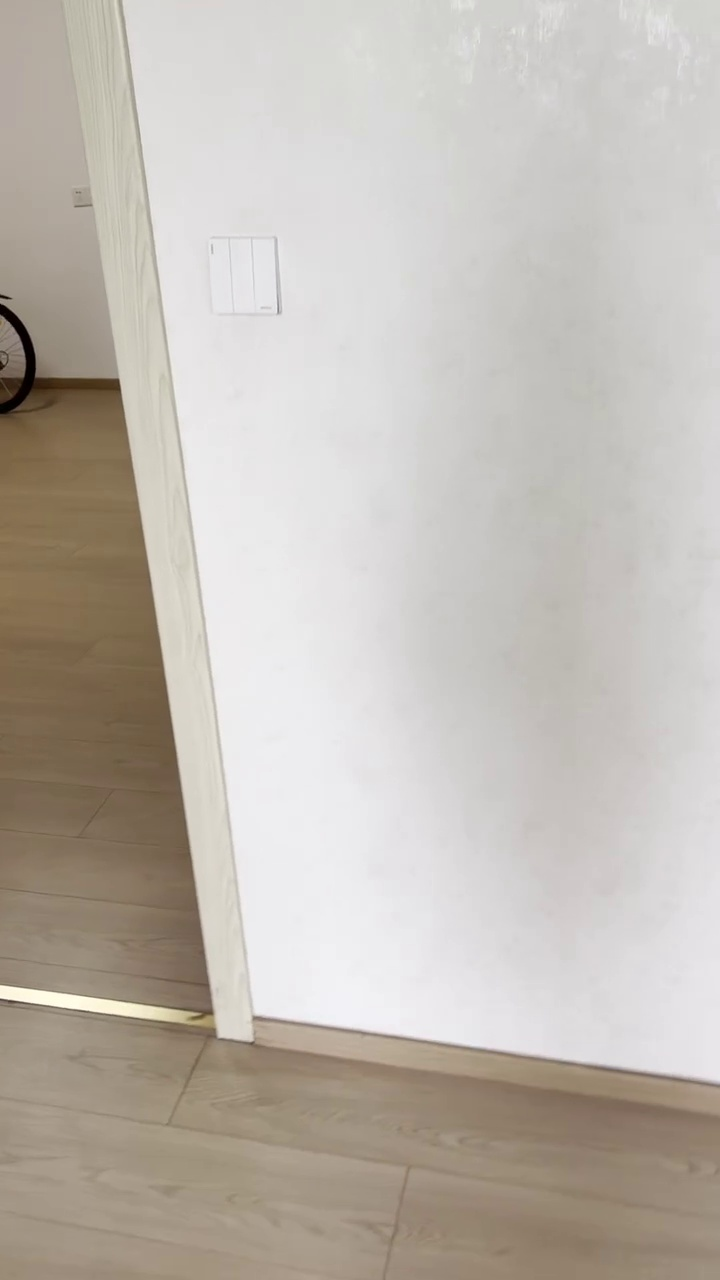button: (205, 232, 281, 321)
